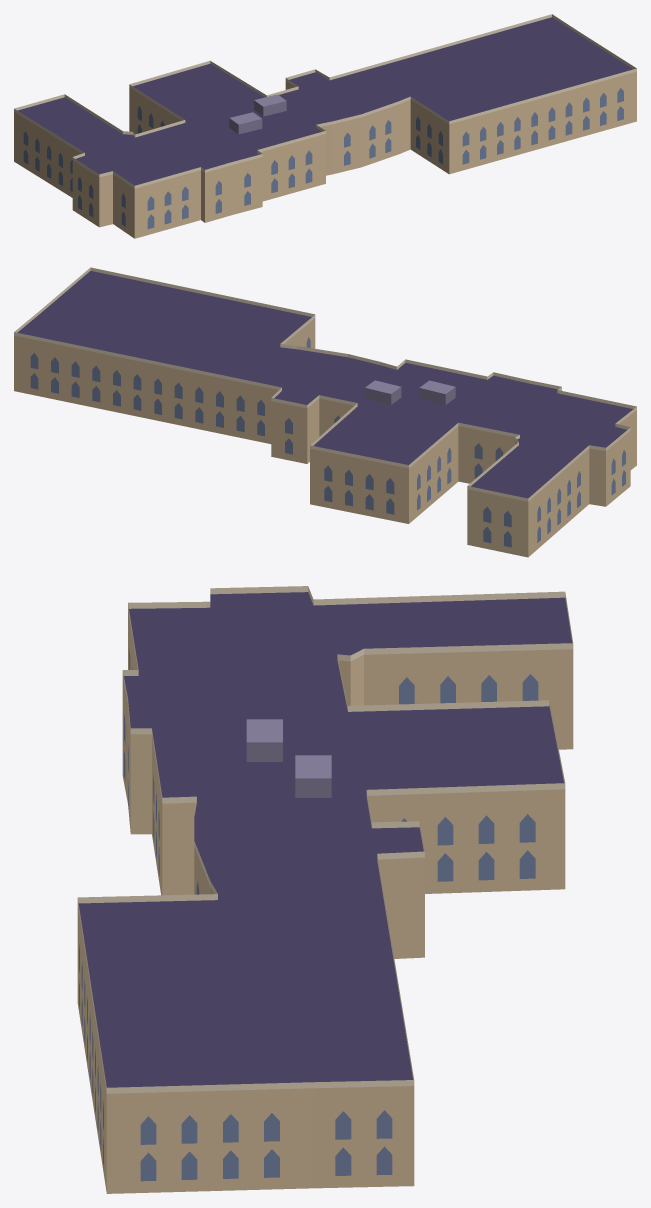
File: b-090-siebens-centre-day.glb
3 views of the same model, one above another, from view 1: azimuth 30°, elevation 25°; view 2: azimuth 150°, elevation 25°; view 3: azimuth 270°, elevation 25° (orthographic). The views are drawn at different scales.
Parts seen in each view (by area): view 1: campus/b-090-siebens-centre-day-0; view 2: campus/b-090-siebens-centre-day-0; view 3: campus/b-090-siebens-centre-day-0.
Boxes of the visible parts, x1,y1,x2,y2 form: campus/b-090-siebens-centre-day-0: [14, 14, 636, 238]; campus/b-090-siebens-centre-day-0: [14, 267, 636, 557]; campus/b-090-siebens-centre-day-0: [77, 586, 573, 1193].
Size of the model in its own units: 97.81 by 10.9 by 40.82.
